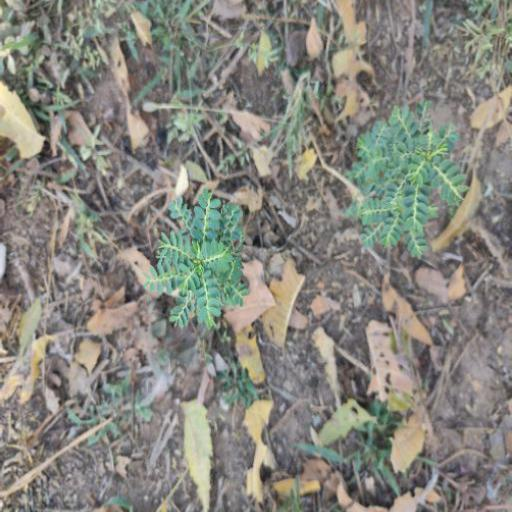weed: (345, 98, 466, 275), (149, 195, 254, 329)
